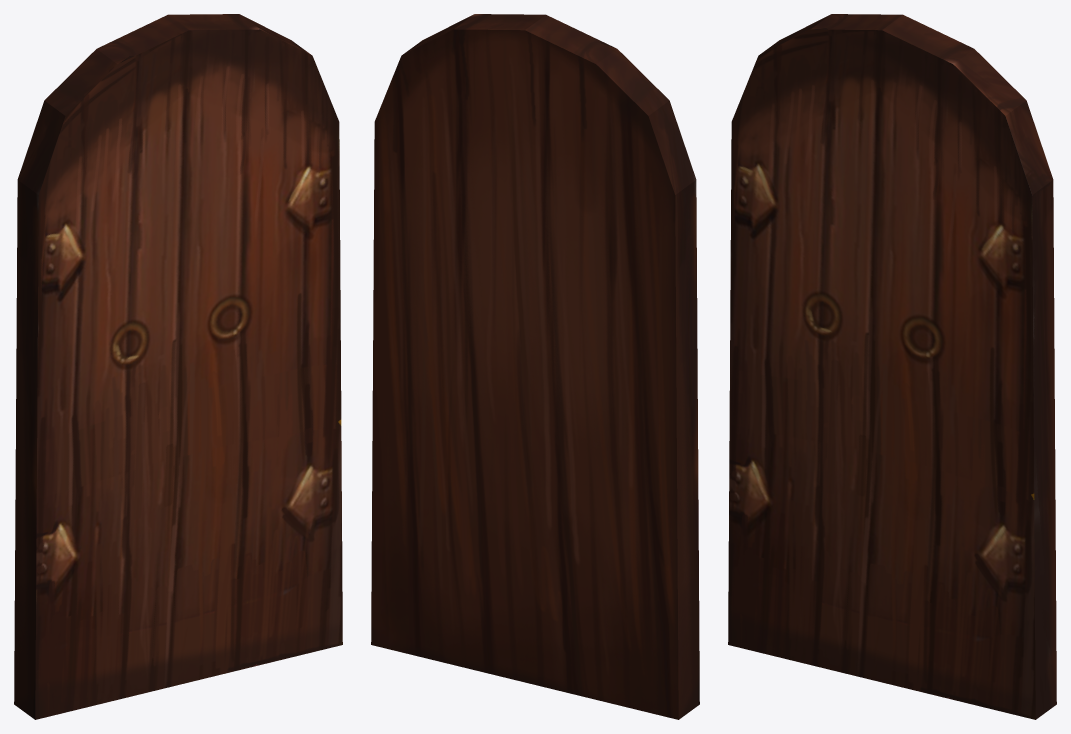
Rendered from Obj_estructura.fbx.
3 views of the same model, side by side, from view 1: azimuth 30°, elevation 25°; view 2: azimuth 150°, elevation 25°; view 3: azimuth 330°, elevation 25° (orthographic).
Visible parts, largest first — view 1: Obj_estructura_door; view 2: Obj_estructura_door; view 3: Obj_estructura_door.
Boxes of the visible parts, x1,y1,x2,y2 form: Obj_estructura_door: (14,14,342,719); Obj_estructura_door: (371,14,699,719); Obj_estructura_door: (728,14,1056,719).
Size of the model in its own units: 2.38 by 4.83 by 0.2839.
